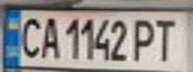1: (60, 15, 81, 60), (78, 15, 96, 61)
2: (109, 16, 133, 62)
4: (93, 15, 112, 61)
A: (36, 13, 60, 60)
C: (15, 13, 45, 60)
P: (130, 15, 160, 63)
T: (151, 15, 184, 63)
